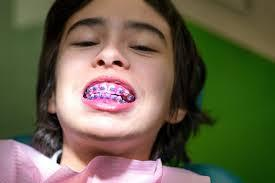Braces: (85, 85, 137, 105)
